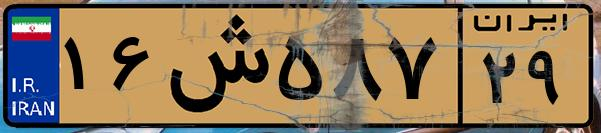1: (57, 26, 110, 100)
2: (475, 38, 525, 113)
5: (270, 28, 330, 110)
6: (110, 28, 158, 98)
7: (385, 28, 445, 110)
8: (330, 28, 385, 110)
9: (525, 38, 570, 115)
ش: (158, 12, 270, 120)
